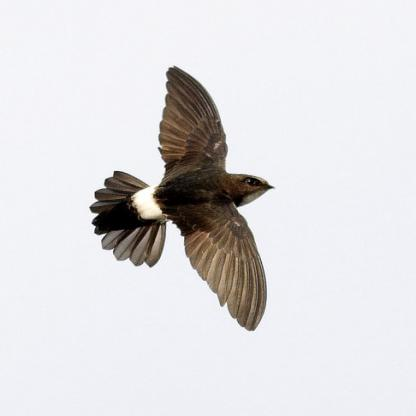Burung: (89, 66, 273, 330)
